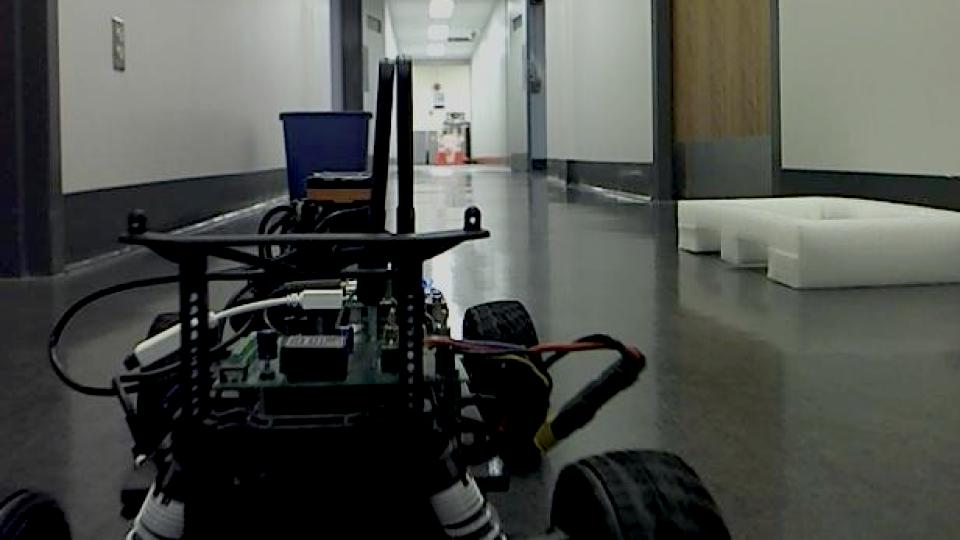car: (0, 50, 734, 540)
